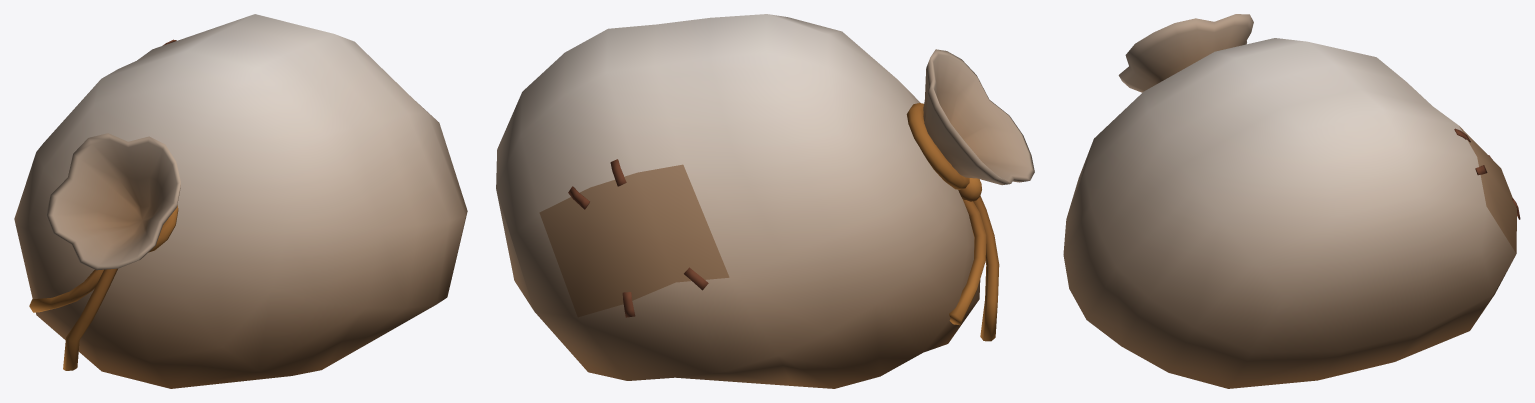
Rendered from obj_RiceBag.fbx.
3 renders of one model, left to right at view 1: azimuth 30°, elevation 25°; view 2: azimuth 150°, elevation 25°; view 3: azimuth 270°, elevation 25°, orthographic. The views are drawn at different scales.
Parts seen in each view (by area): view 1: obj_RiceBag; view 2: obj_RiceBag; view 3: obj_RiceBag.
Boxes of the visible parts, bbox=[...] form: obj_RiceBag: bbox=[14, 14, 467, 388]; obj_RiceBag: bbox=[496, 14, 1034, 388]; obj_RiceBag: bbox=[1063, 14, 1520, 388].
Size of the model in its own units: 27.53 by 17.18 by 26.04.
